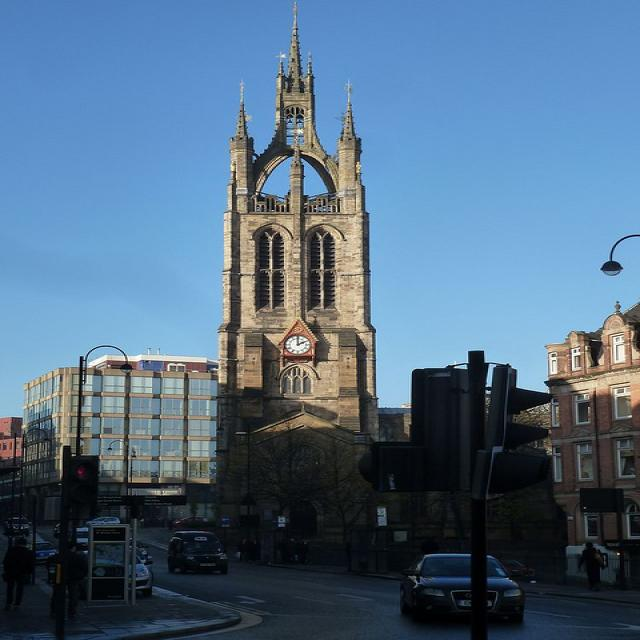Vehicle: (400, 548, 527, 628), (93, 545, 152, 596), (166, 532, 228, 574), (500, 558, 536, 582), (4, 514, 33, 536), (35, 540, 58, 564), (171, 516, 216, 526), (85, 517, 121, 526), (76, 528, 91, 549)
